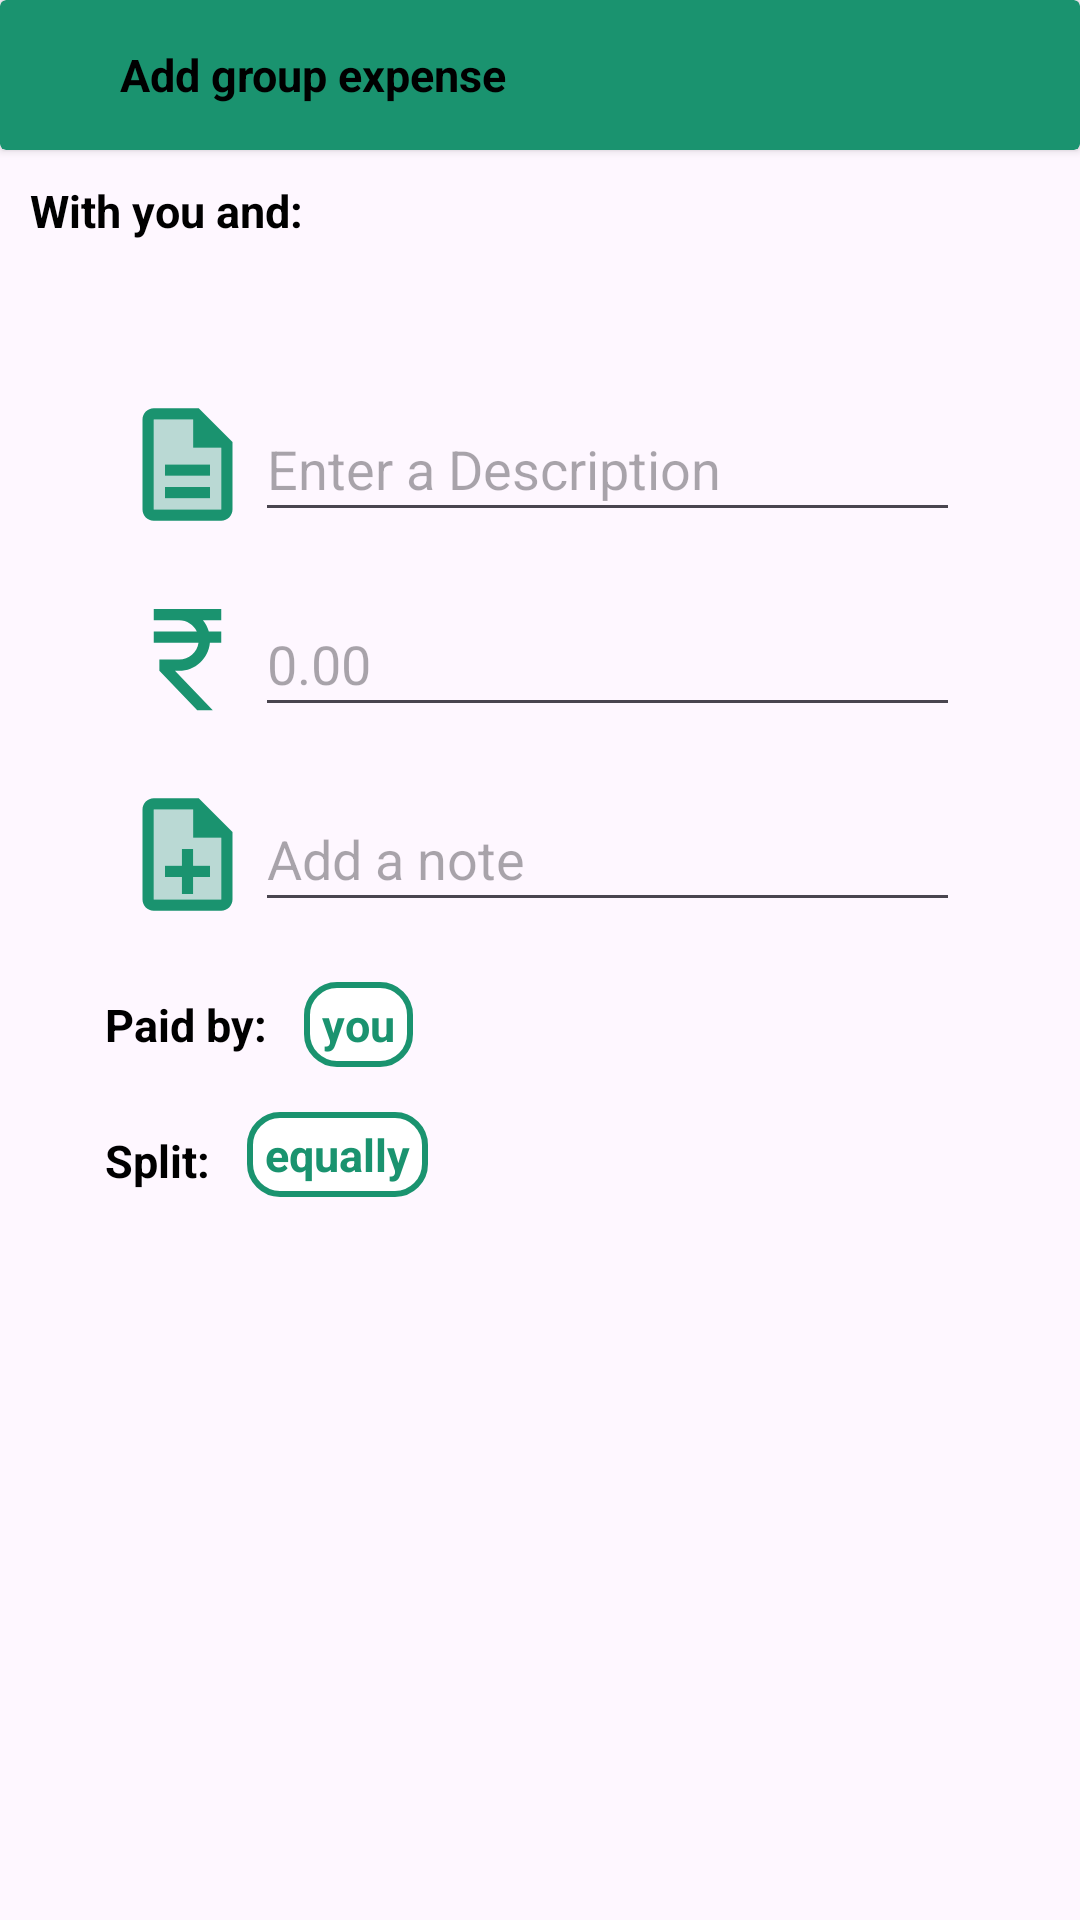

Named icons in this screenshot (1080 x 1920) and their centers, [x,y]:
money: [187,660]
